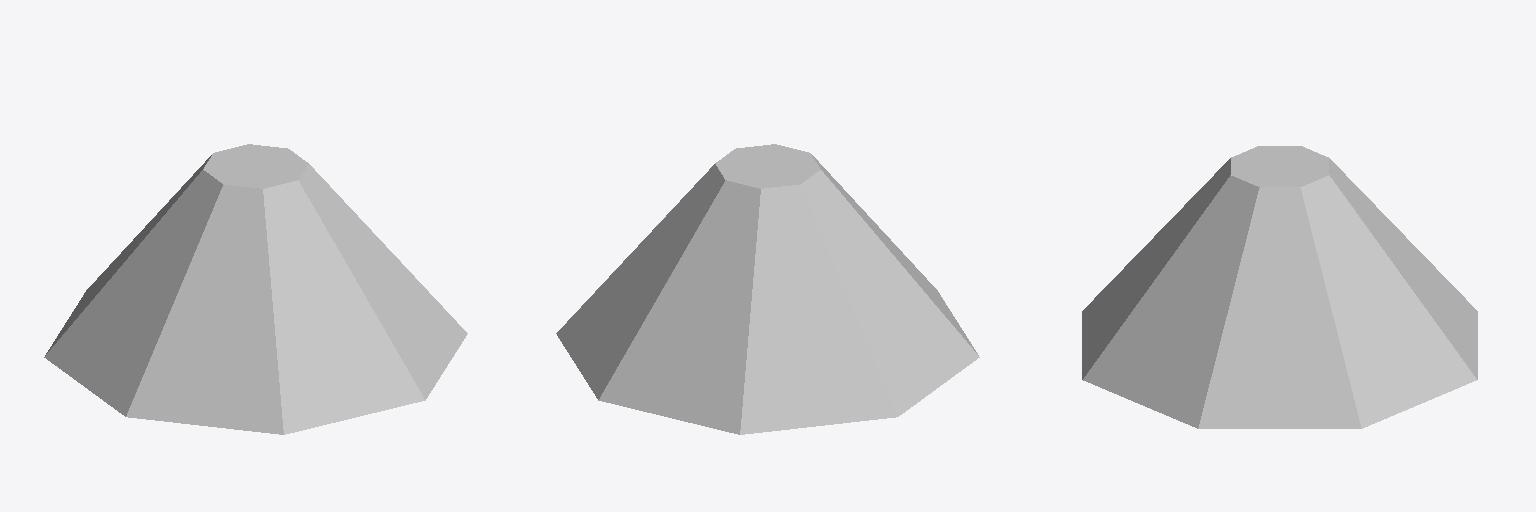
File: lamp.obj
The picture shows the model from 3 angles: view 1: azimuth 30°, elevation 25°; view 2: azimuth 150°, elevation 25°; view 3: azimuth 270°, elevation 25°; orthographic projection.
Visible parts, largest first — view 1: entity0_brush4; view 2: entity0_brush4; view 3: entity0_brush4.
Part boxes in pixels (bbox=[...]): entity0_brush4: bbox=[44, 144, 467, 434]; entity0_brush4: bbox=[556, 144, 979, 434]; entity0_brush4: bbox=[1082, 146, 1477, 428].
Bounding box in the file's own units: 0.96 × 0.48 × 0.96.